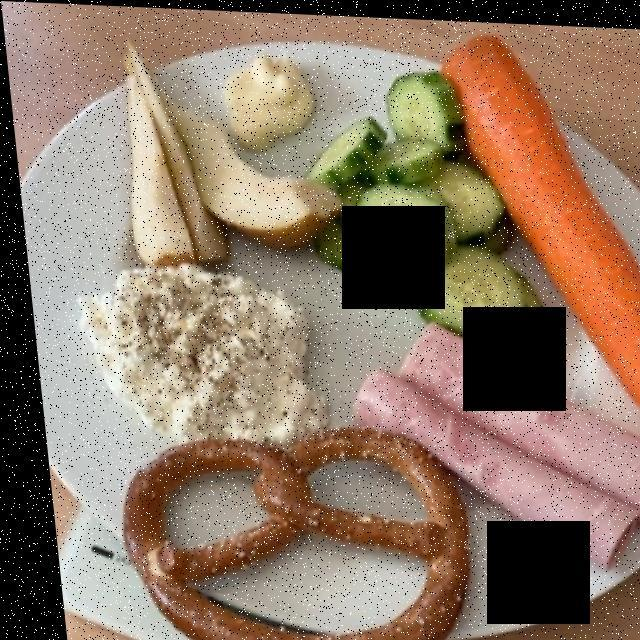carrot: (436, 23, 640, 404)
cheese: (77, 267, 321, 430)
cucumber: (312, 71, 530, 366)
mayonnaise: (211, 54, 301, 166)
pear: (118, 49, 334, 269)
